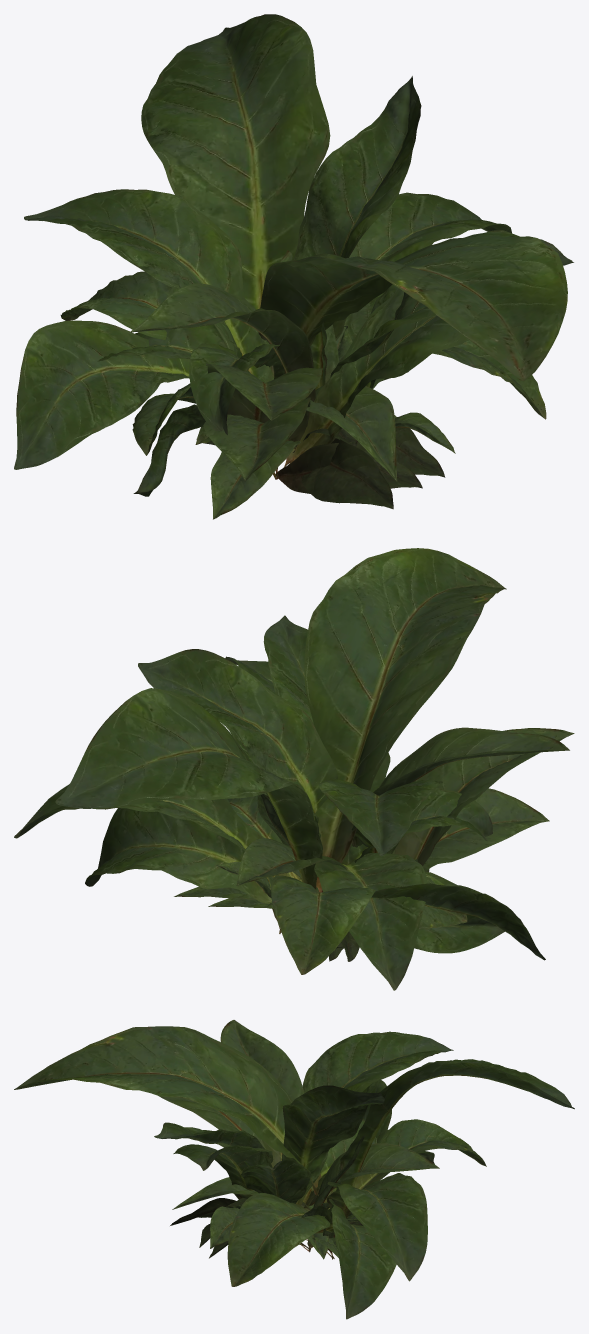
File: anthurium_botany_01.glb
3 views of the same model, one above another, from view 1: azimuth 30°, elevation 25°; view 2: azimuth 150°, elevation 25°; view 3: azimuth 270°, elevation 25° (orthographic). The views are drawn at different scales.
Visible parts, largest first — view 1: anthurium_botany_01_a, anthurium_botany_01_b, anthurium_botany_01_c, anthurium_botany_04_d; view 2: anthurium_botany_01_a, anthurium_botany_01_b, anthurium_botany_01_c, anthurium_botany_04_d, anthurium_botany_06_f; view 3: anthurium_botany_01_a, anthurium_botany_01_b, anthurium_botany_01_c, anthurium_botany_04_d, anthurium_botany_05_e.
Boxes of the visible parts, <box> form: anthurium_botany_01_a: <box>14,14,567,481</box>; anthurium_botany_01_b: <box>97,76,573,509</box>; anthurium_botany_01_c: <box>24,189,572,493</box>; anthurium_botany_04_d: <box>210,250,445,519</box>; anthurium_botany_01_a: <box>14,548,545,974</box>; anthurium_botany_01_b: <box>85,615,569,990</box>; anthurium_botany_01_c: <box>225,656,574,885</box>; anthurium_botany_04_d: <box>174,731,457,961</box>; anthurium_botany_06_f: <box>208,870,359,961</box>; anthurium_botany_01_a: <box>14,1026,574,1286</box>; anthurium_botany_01_b: <box>154,1020,434,1319</box>; anthurium_botany_01_c: <box>159,1031,453,1259</box>; anthurium_botany_04_d: <box>209,1135,365,1258</box>; anthurium_botany_05_e: <box>226,1204,359,1259</box>.
Bounding box in the file's own units: 0.8962 × 0.4997 × 1.14.
1 material, 1 textured.
